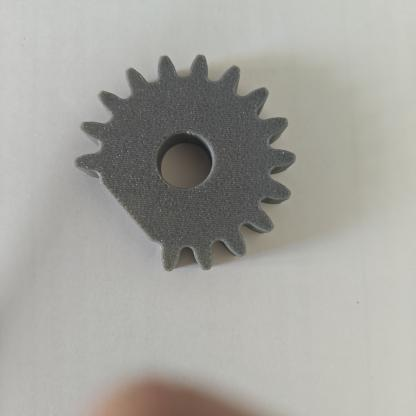defect: (67, 146, 183, 283)
gear: (56, 34, 318, 296)
